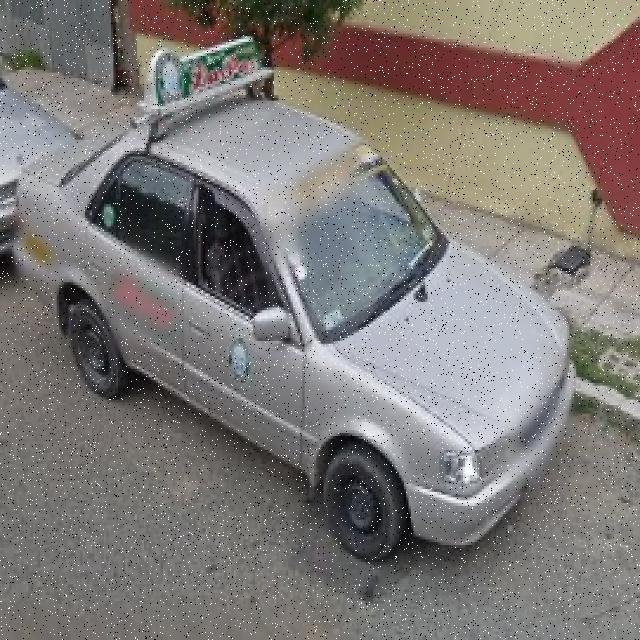cars: (13, 75, 579, 552)
